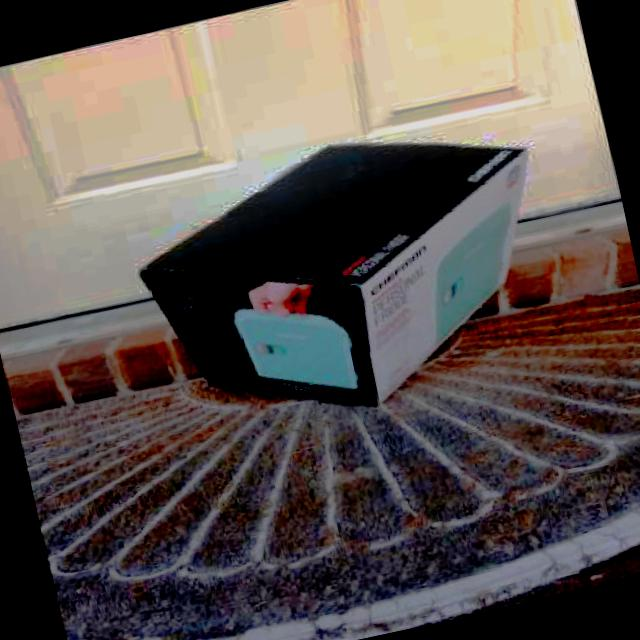Box: (118, 100, 577, 452)
